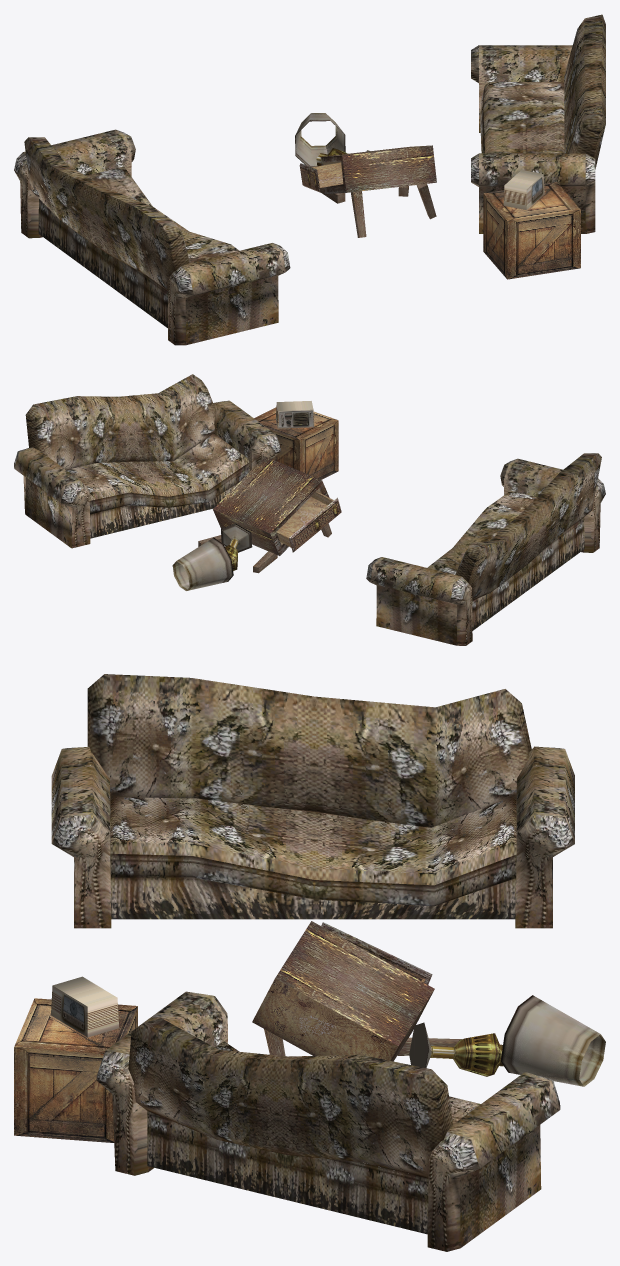
Rendered from rmlivinb.glb.
3 renders of one model, top to bottom at view 1: azimuth 30°, elevation 25°; view 2: azimuth 150°, elevation 25°; view 3: azimuth 270°, elevation 25°, orthographic. The views are drawn at different scales.
Parts seen in each view (by area): view 1: _rmlivinb; view 2: _rmlivinb; view 3: _rmlivinb.
Part boxes in pixels (x1,y1,x2,y2): _rmlivinb: [14, 14, 605, 345]; _rmlivinb: [14, 374, 605, 645]; _rmlivinb: [14, 674, 605, 1251].
Bounding box in the file's own units: 5.97 × 1.23 × 3.65.
Materials: 2 (2 with a texture image).
